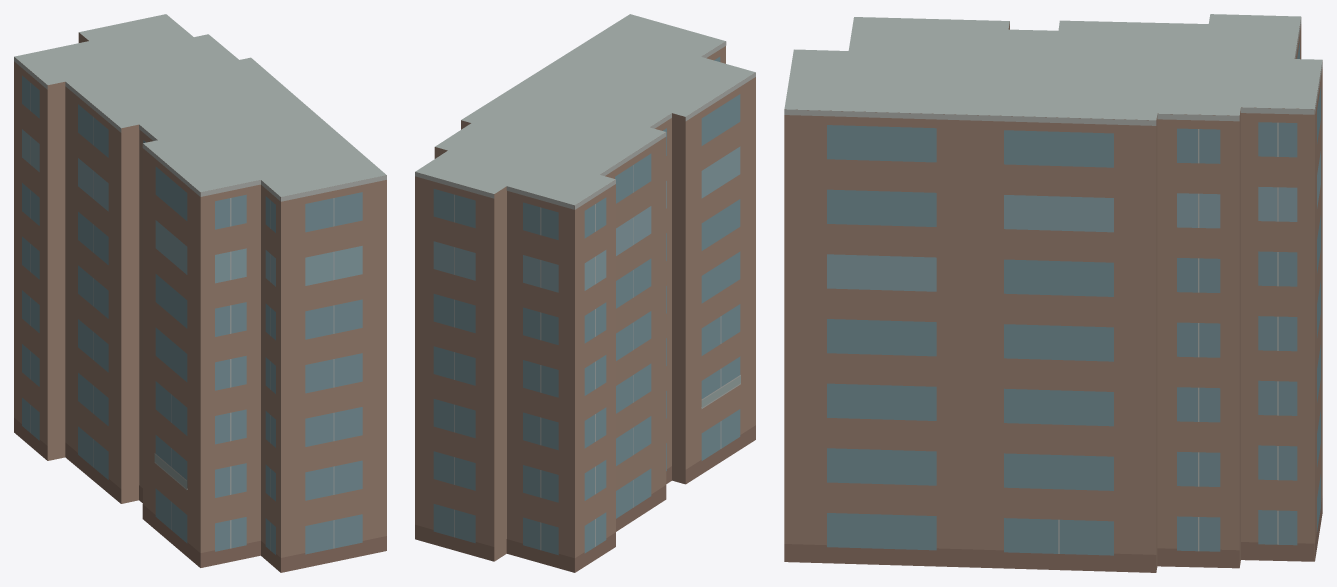
File: survey-upis-32595225.glb
The picture shows the model from 3 angles, left to right: view 1: azimuth 30°, elevation 25°; view 2: azimuth 150°, elevation 25°; view 3: azimuth 270°, elevation 25°; orthographic projection. The views are drawn at different scales.
Parts seen in each view (by area): view 1: survey-upis-32595225.tmp; view 2: survey-upis-32595225.tmp; view 3: survey-upis-32595225.tmp.
Part boxes in pixels (bbox=[...]): survey-upis-32595225.tmp: bbox=[14, 14, 386, 572]; survey-upis-32595225.tmp: bbox=[415, 14, 755, 572]; survey-upis-32595225.tmp: bbox=[784, 14, 1322, 572].
Bounding box in the file's own units: 9.94 × 19.7 × 21.25.
